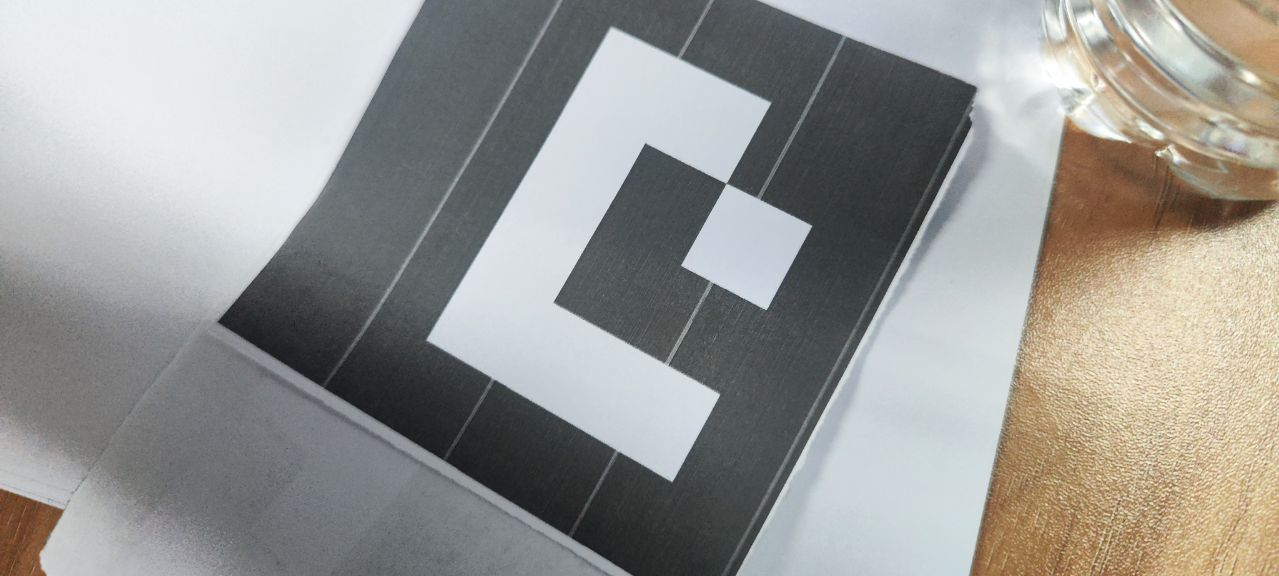mark1: (423, 16, 814, 489)
